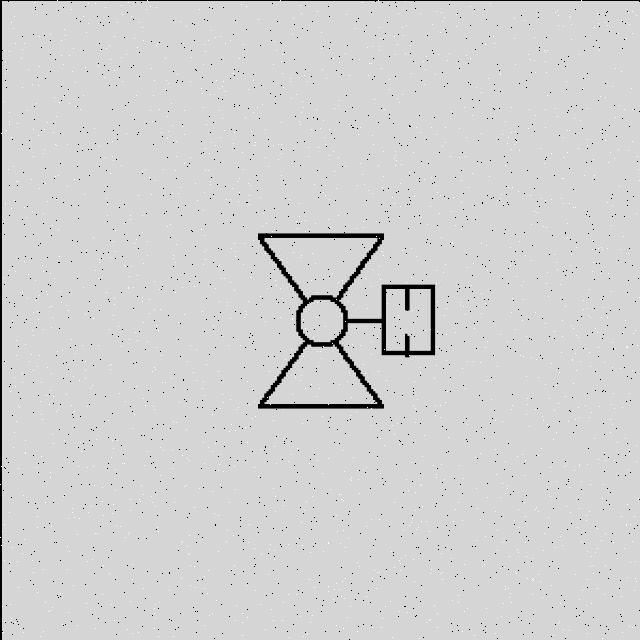Rotary Piston-Pneumatic Gate Valve: (235, 180, 465, 452)
